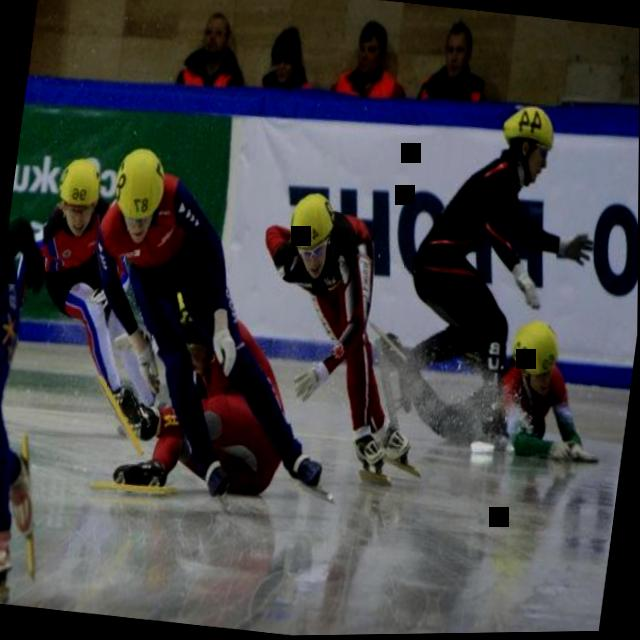Fall-Detected: (88, 350, 328, 515)
